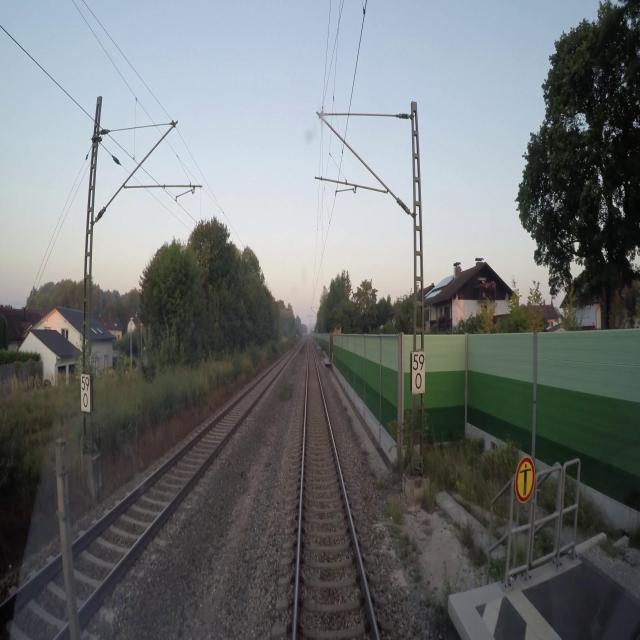rail-track: (72, 359, 285, 603), (297, 346, 376, 639)
